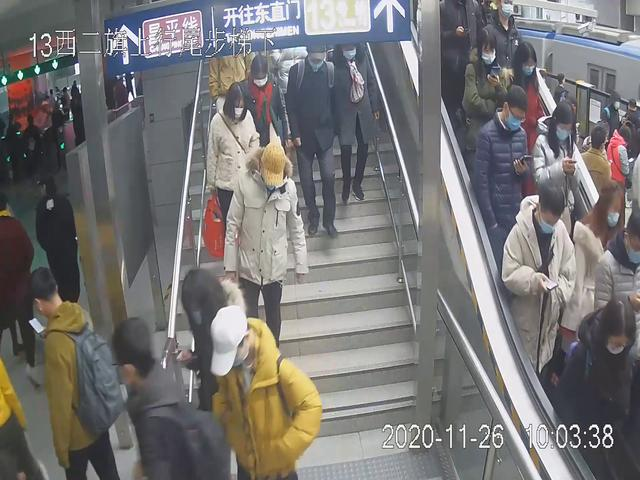person: (225, 135, 312, 361), (501, 178, 577, 402), (470, 83, 536, 288), (204, 79, 263, 287), (282, 46, 343, 240), (330, 40, 382, 204)
